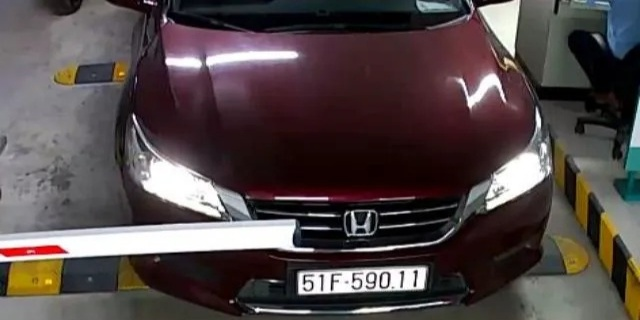bien_so: (299, 267, 427, 294)
